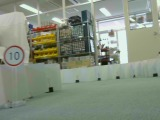speed_10: (1, 44, 26, 68)
